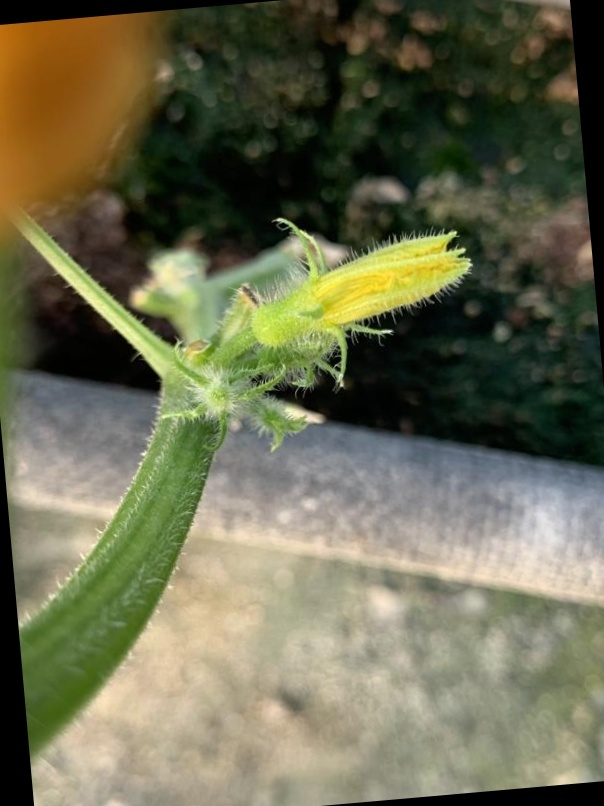bud: (217, 221, 473, 353)
